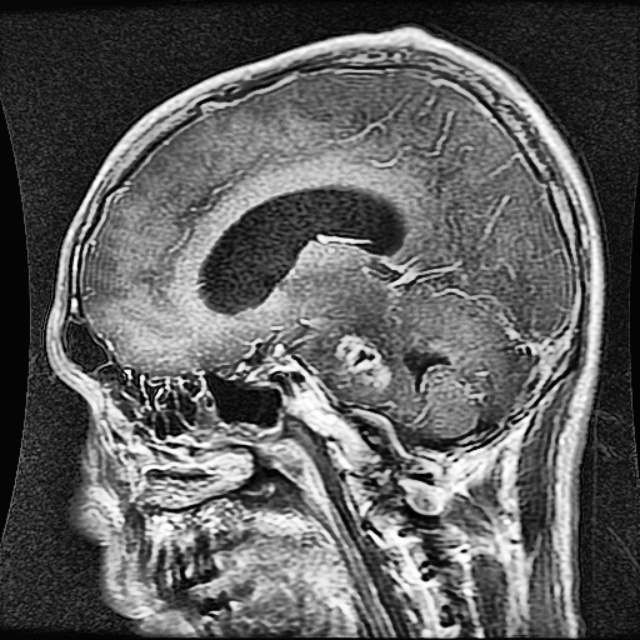Meningioma: (335, 339, 389, 392)
